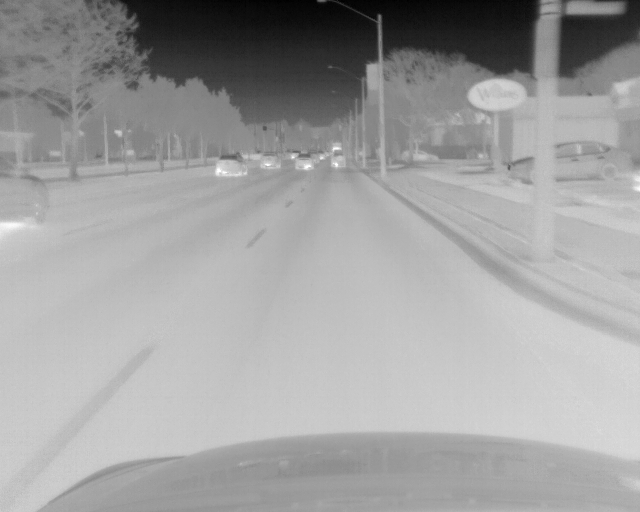car: (508, 139, 633, 185), (1, 152, 50, 229), (214, 153, 249, 177), (397, 148, 440, 167), (258, 152, 281, 170), (292, 154, 314, 172), (328, 150, 346, 170), (286, 148, 300, 160), (318, 151, 329, 161), (312, 152, 320, 163)
